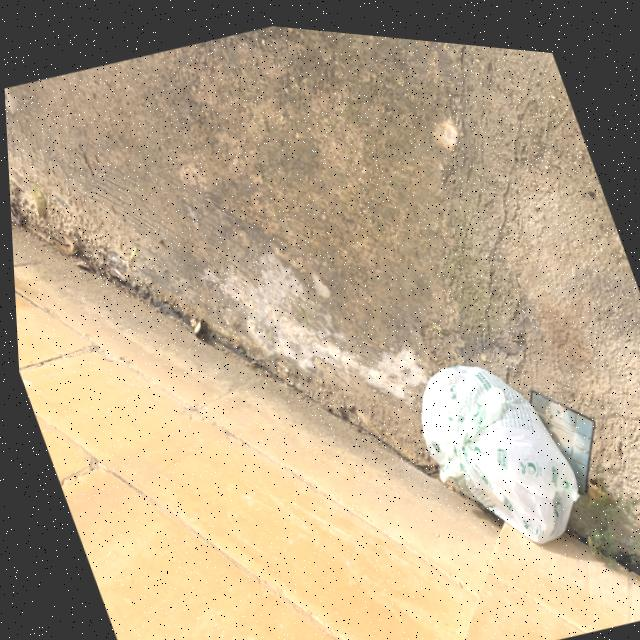Organic Waste -White Bag-: (389, 323, 606, 570)
